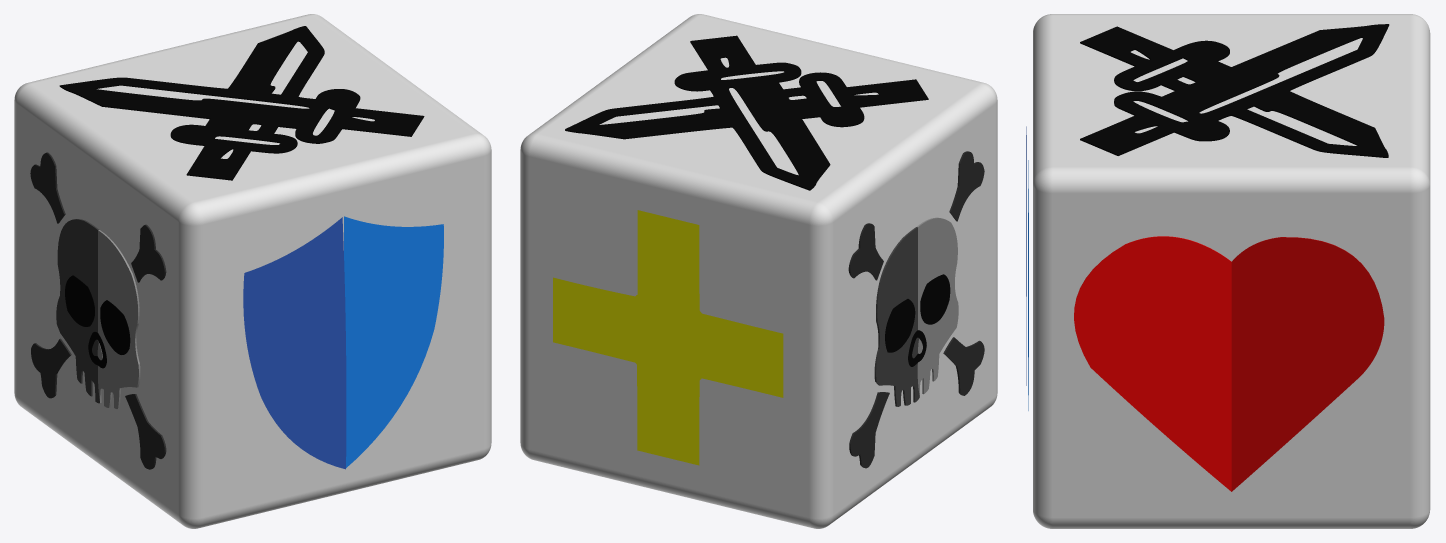
3 views of the same model, side by side, from view 1: azimuth 30°, elevation 25°; view 2: azimuth 150°, elevation 25°; view 3: azimuth 270°, elevation 25° (orthographic). The views are drawn at different scales.
Parts seen in each view (by area): view 1: Cube.001, Curve.009, Curve.001, Curve.008, Curve.012, Curve.011, Curve.019, Curve.018, Curve.005, Curve.010, Curve.013, Curve.014; view 2: Cube.001, Curve.002, Curve.001, Curve.011, Curve.012, Curve.018, Curve.019, Curve.010, Curve.005, Curve.013, Curve.014; view 3: Cube.001, Curve.006, Curve.007, Curve.001.
Boxes of the visible parts, left/top/right/bottom form: Cube.001: left=14, top=14, right=491, bottom=528; Curve.009: left=243, top=217, right=346, bottom=469; Curve.001: left=59, top=26, right=424, bottom=180; Curve.008: left=344, top=216, right=443, bottom=467; Curve.012: left=98, top=230, right=140, bottom=408; Curve.011: left=56, top=219, right=99, bottom=403; Curve.019: left=125, top=394, right=166, bottom=469; Curve.018: left=31, top=338, right=71, bottom=398; Curve.005: left=30, top=152, right=65, bottom=223; Curve.010: left=131, top=224, right=166, bottom=282; Curve.013: left=65, top=275, right=94, bottom=326; Curve.014: left=100, top=300, right=130, bottom=354; Cube.001: left=520, top=14, right=997, bottom=528; Curve.002: left=553, top=210, right=783, bottom=465; Curve.001: left=565, top=35, right=928, bottom=190; Curve.011: left=874, top=227, right=919, bottom=406; Curve.012: left=917, top=217, right=958, bottom=396; Curve.018: left=849, top=392, right=889, bottom=468; Curve.019: left=943, top=337, right=984, bottom=395; Curve.010: left=949, top=151, right=984, bottom=221; Curve.005: left=848, top=223, right=883, bottom=280; Curve.013: left=885, top=299, right=915, bottom=352; Curve.014: left=920, top=274, right=950, bottom=324; Cube.001: left=1033, top=14, right=1430, bottom=528; Curve.006: left=1074, top=236, right=1231, bottom=491; Curve.007: left=1231, top=237, right=1384, bottom=491; Curve.001: left=1080, top=24, right=1389, bottom=157.
Size of the model in its own units: 1224 by 1231 by 1239.
